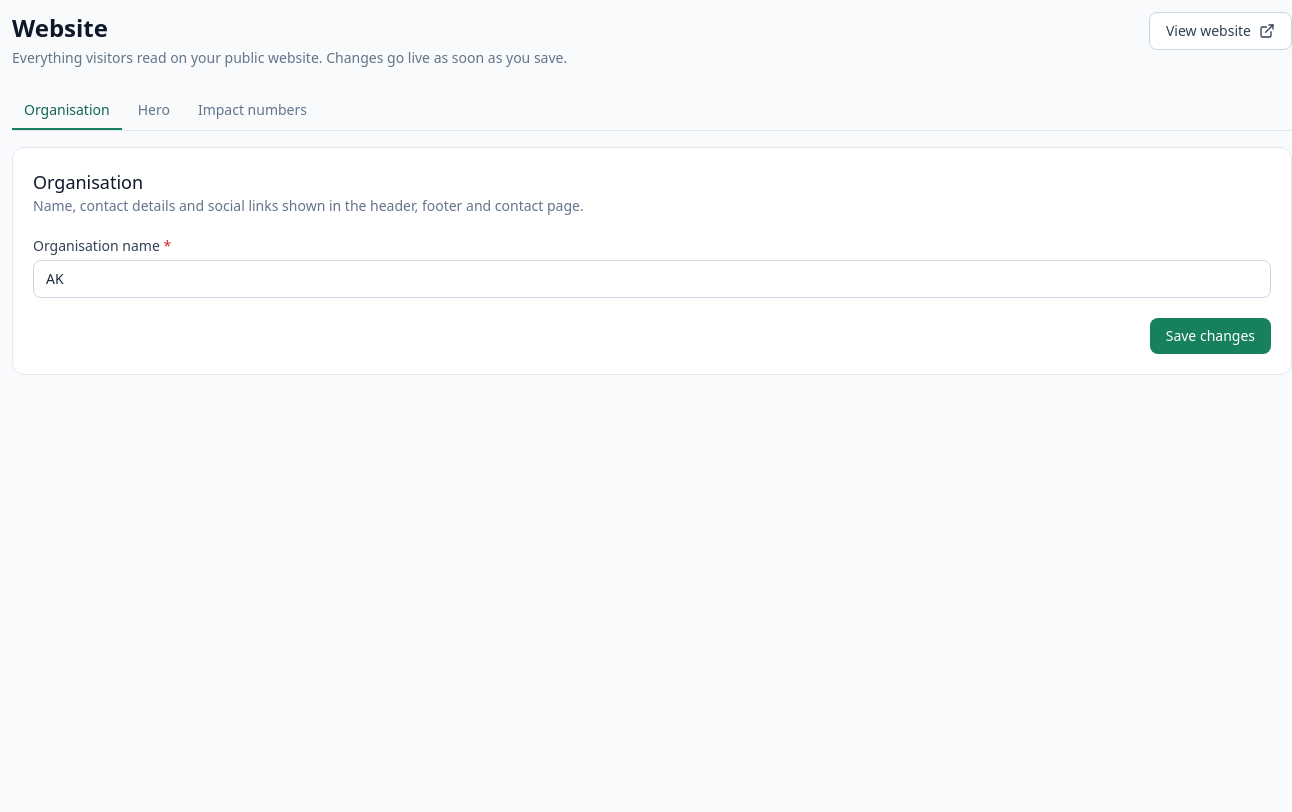
Test: website CMS › builds its tabs and fields from the server definition
The width and height of the screenshot is (1292, 812).
expect the tab "Impact numbers" is shown: met, box [186, 92, 319, 130]
Click the tab "Hero" at (154, 111), box [126, 92, 182, 130]
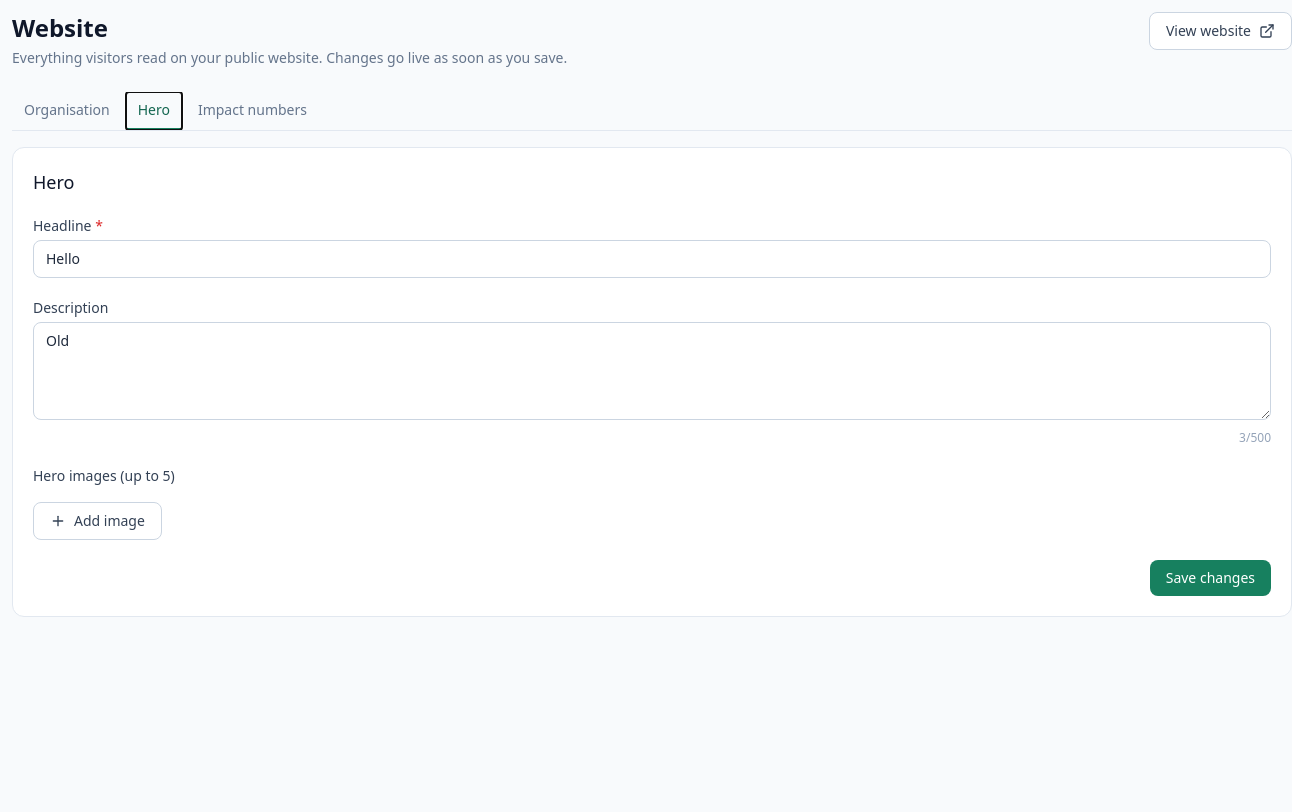
expect the field labelled "Headline *" holds "Hello": met, box [33, 240, 1271, 278]
